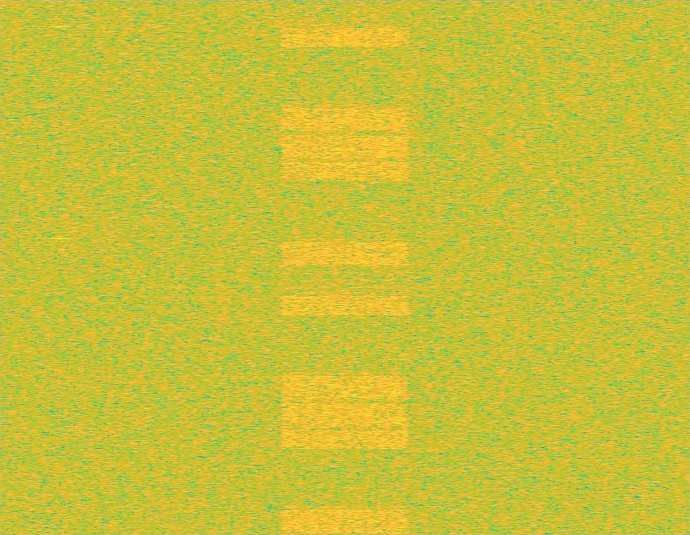LTE: (276, 0, 414, 534)
Radar: (54, 0, 68, 534)
